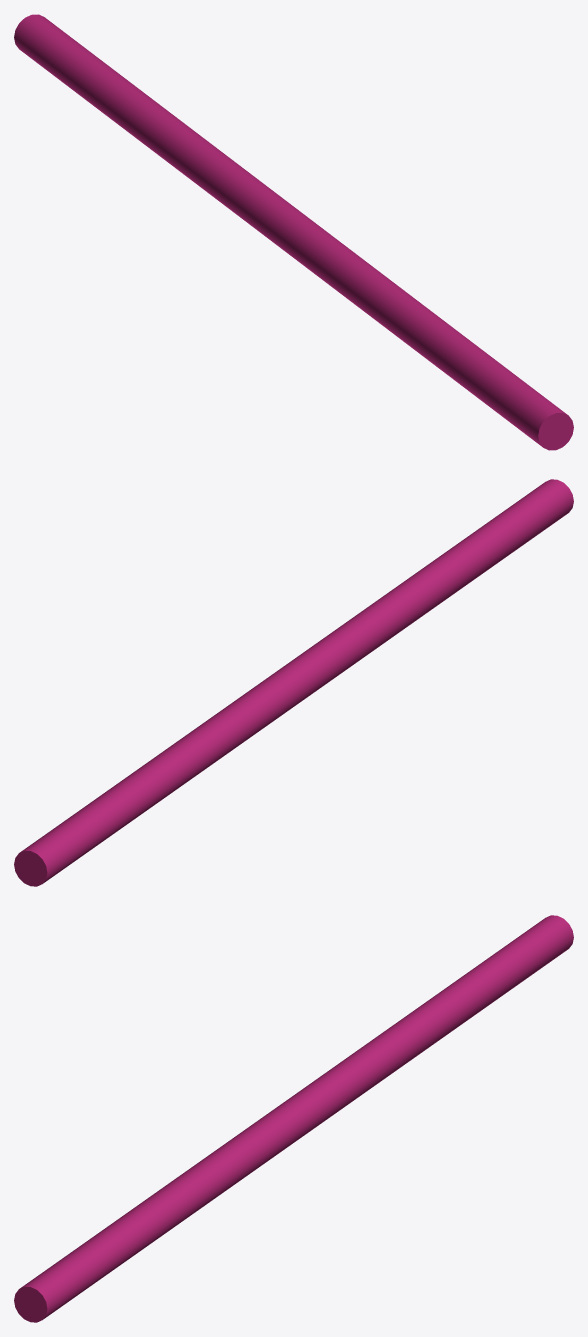
Rendered from top.dae.
3 renders of one model, top to bottom at view 1: azimuth 30°, elevation 25°; view 2: azimuth 150°, elevation 25°; view 3: azimuth 330°, elevation 25°, orthographic. The views are drawn at different scales.
Parts seen in each view (by area): view 1: beam2; view 2: beam2; view 3: beam2.
Part boxes in pixels (x1,y1,x2,y2): beam2: [14, 14, 573, 450]; beam2: [14, 479, 573, 886]; beam2: [14, 915, 573, 1322].
Size of the model in its own units: 0.3277 by 0.2297 by 6.04.
